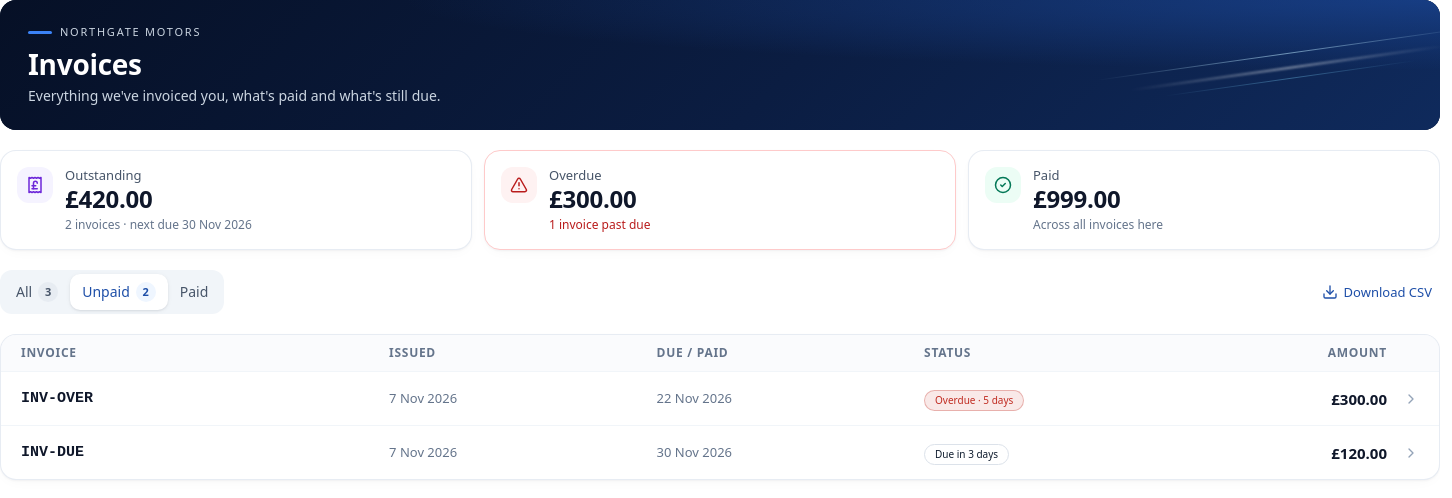
Invoices › filters to unpaid or paid
The width and height of the screenshot is (1452, 498).
Expected: the text "INV-OVER" is shown, x1=21 y1=390 x2=93 y2=406
Expected: the text "INV-PAID" is not shown
Click the tab "Paid": [194, 292] box x1=168 y1=274 x2=220 y2=310
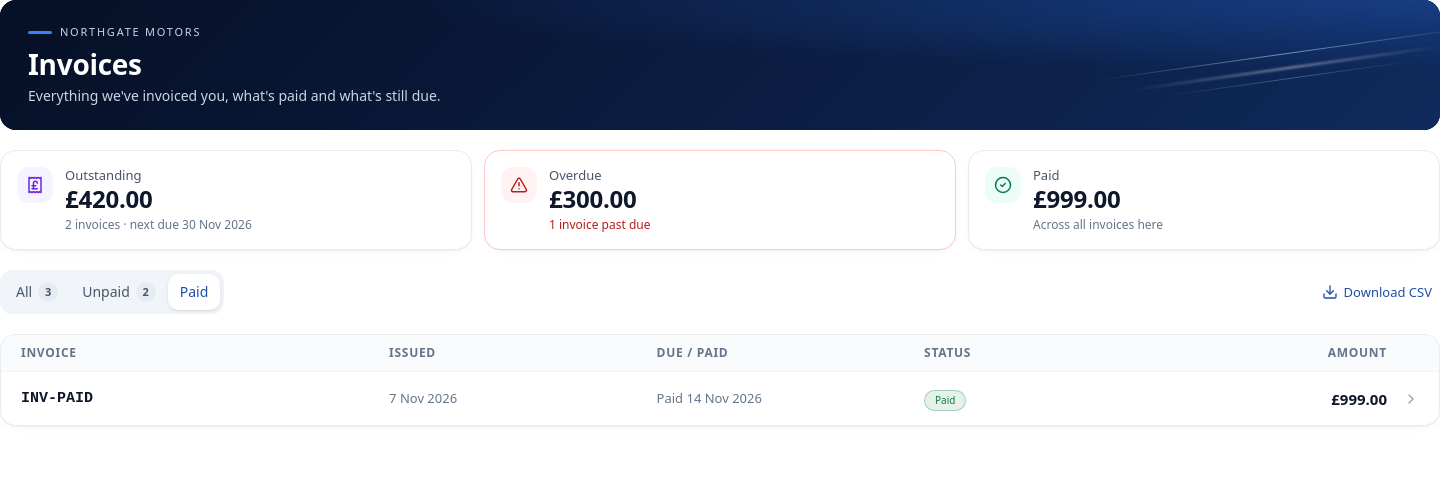
Expected: the text "INV-PAID" is shown, x1=21 y1=390 x2=93 y2=406
Expected: the link "INV-OVER" is gone
